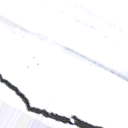crackTip: (1, 71, 103, 128)
